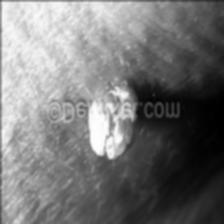Toxin: (83, 120, 144, 166), (85, 82, 142, 98)
